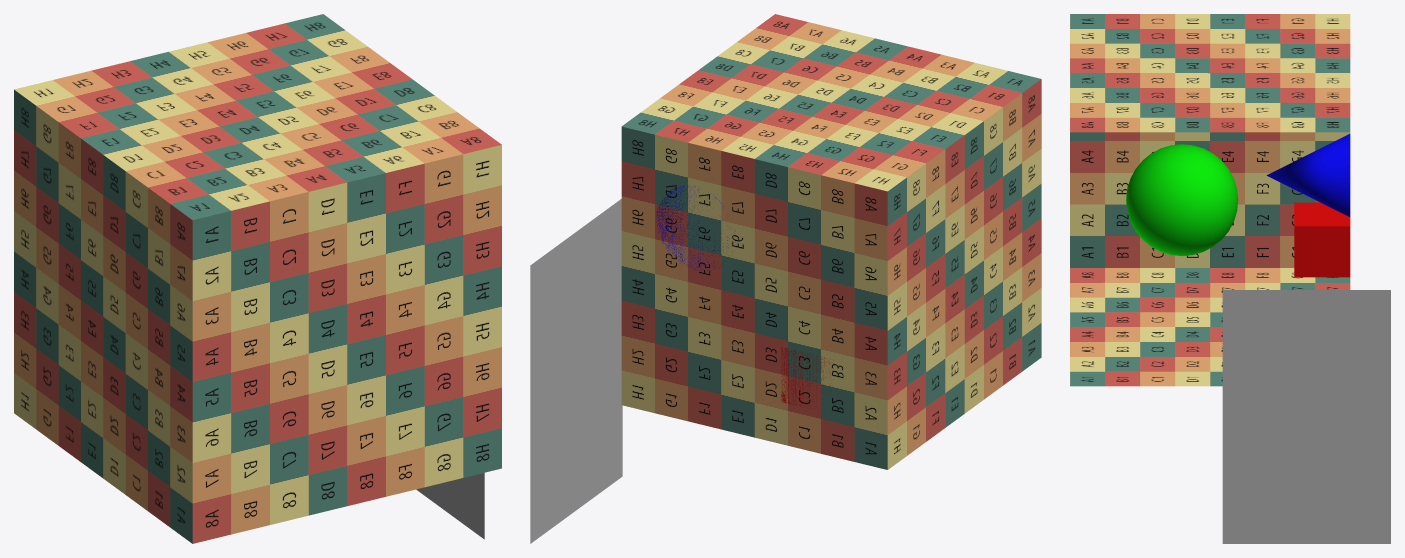
Rendered from rgb.gltf.
The picture shows the model from 3 angles, left to right: view 1: azimuth 30°, elevation 25°; view 2: azimuth 150°, elevation 25°; view 3: azimuth 270°, elevation 25°; orthographic projection. The views are drawn at different scales.
Parts seen in each view (by area): view 1: Room, Plane; view 2: Room, Plane, Cube, Cone; view 3: Room, Plane, Sphere, Cube, Cone.
Part boxes in pixels (x1,y1,x2,y2): Room: [14, 14, 501, 543]; Plane: [416, 473, 484, 539]; Room: [621, 14, 1041, 469]; Plane: [530, 199, 622, 543]; Cube: [781, 347, 833, 407]; Cone: [656, 185, 731, 270]; Room: [1070, 14, 1350, 386]; Plane: [1222, 290, 1390, 543]; Sphere: [1126, 144, 1238, 256]; Cube: [1294, 202, 1350, 277]; Cone: [1266, 134, 1350, 216].
Bounding box in the file's own units: 12.58 × 15 × 11.45.
5 materials, 1 textured.
